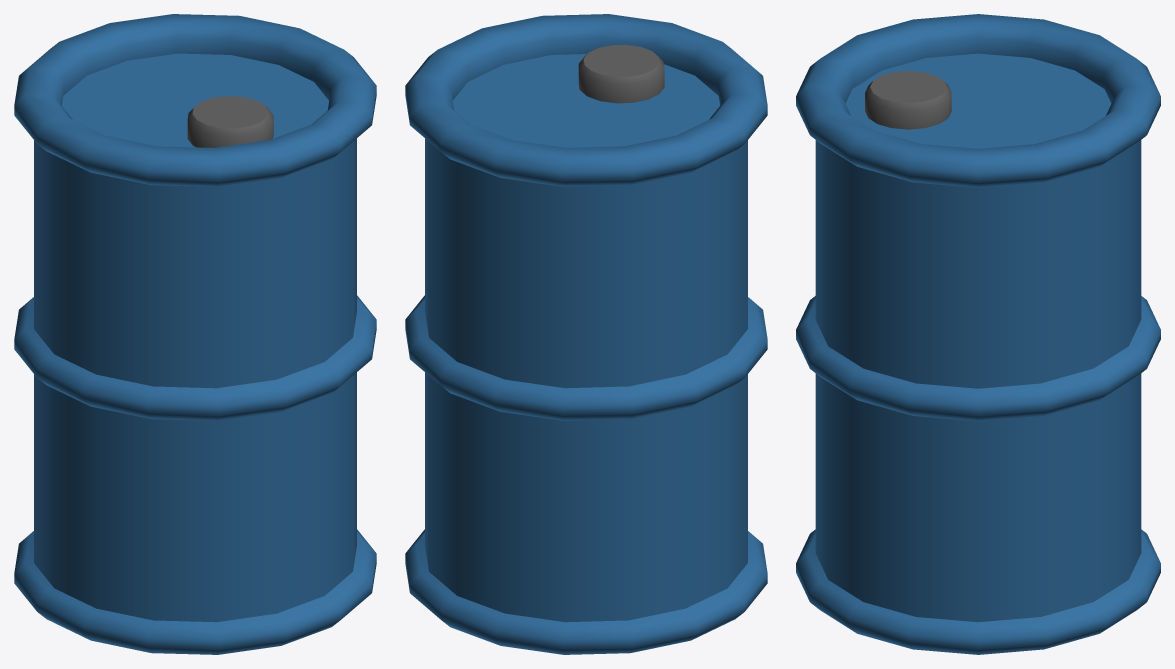
Rendered from SRA_Oil_Barrel_Single_Blue.glb.
The picture shows the model from 3 angles, left to right: view 1: azimuth 30°, elevation 25°; view 2: azimuth 150°, elevation 25°; view 3: azimuth 270°, elevation 25°; orthographic projection.
Visible parts, largest first — view 1: Oil_Barrel_Single_Blue; view 2: Oil_Barrel_Single_Blue; view 3: Oil_Barrel_Single_Blue.
Part boxes in pixels (x1,y1,x2,y2): Oil_Barrel_Single_Blue: (14, 14, 376, 654); Oil_Barrel_Single_Blue: (405, 14, 767, 654); Oil_Barrel_Single_Blue: (796, 14, 1160, 654).
Bounding box in the file's own units: 0.4 × 0.5999 × 0.4.
1 material, 1 textured.
